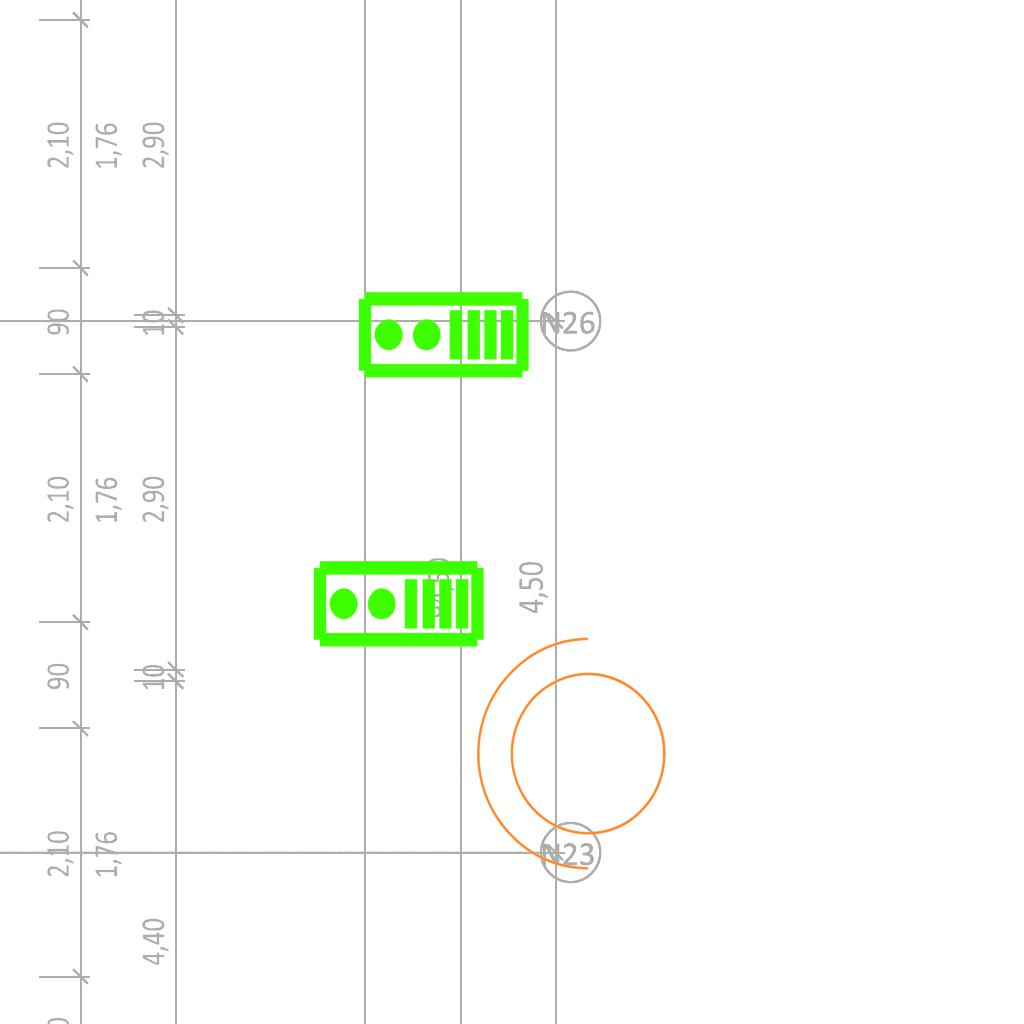Gegensprechanlage_mit_Video: (355, 289, 531, 384), (310, 558, 486, 653)
Scheinwerfer_fuer_Alarmbeleuchtung: (466, 628, 691, 892)
